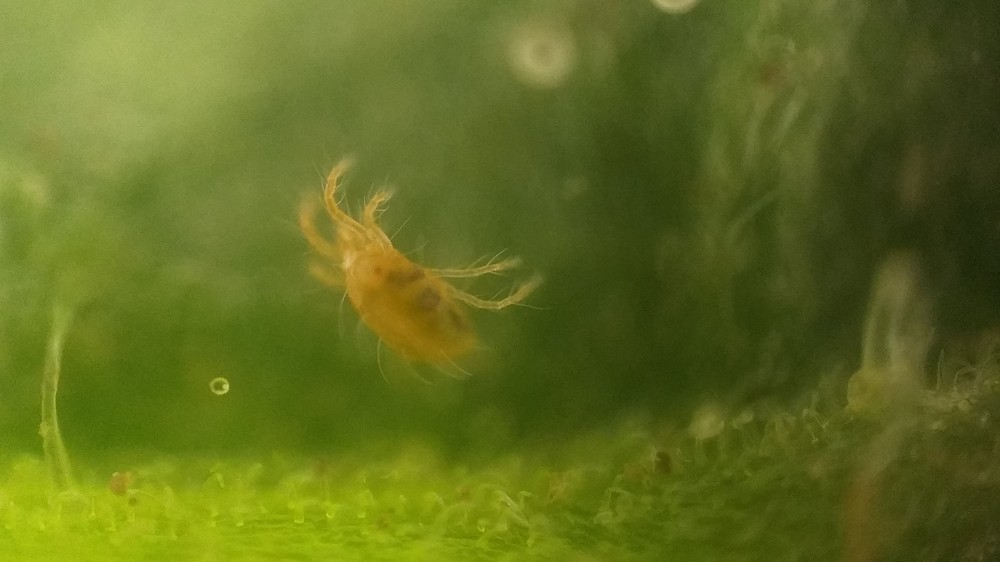Aracnido Rojo: (256, 147, 573, 412)
